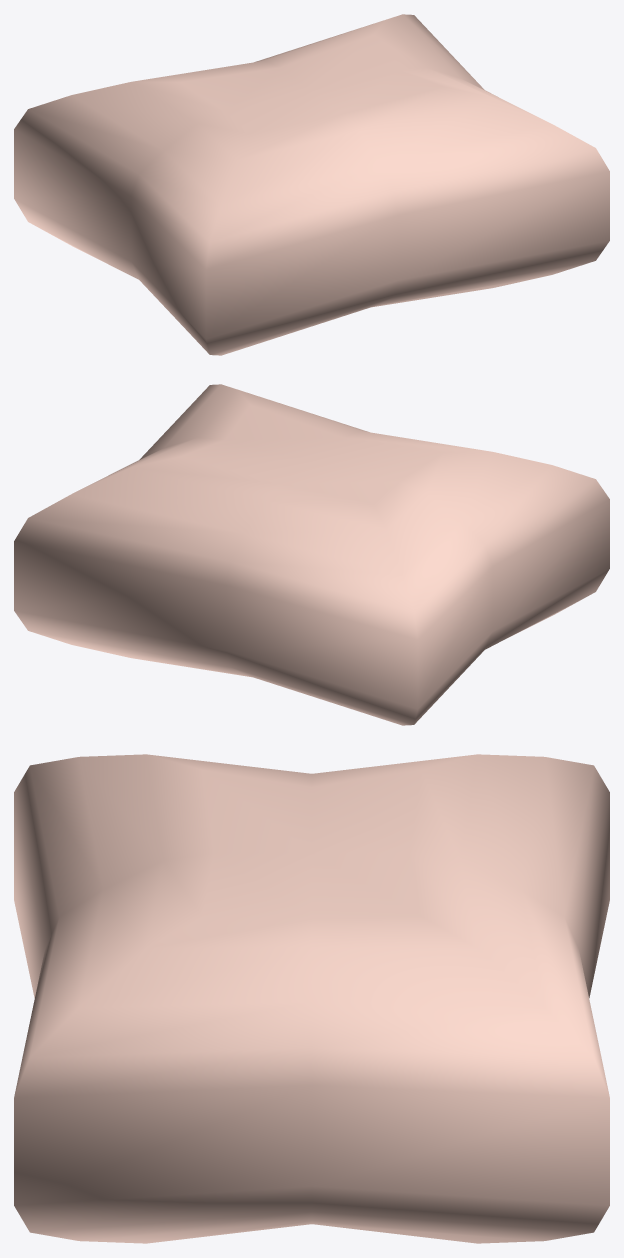
Rendered from bed_pillow_2.glb.
3 views of the same model, one above another, from view 1: azimuth 30°, elevation 25°; view 2: azimuth 150°, elevation 25°; view 3: azimuth 270°, elevation 25° (orthographic). The views are drawn at different scales.
Parts seen in each view (by area): view 1: Pillow (Sofa); view 2: Pillow (Sofa); view 3: Pillow (Sofa).
Boxes of the visible parts, <box> form: Pillow (Sofa): <box>14,14,609,355</box>; Pillow (Sofa): <box>14,384,609,725</box>; Pillow (Sofa): <box>14,754,609,1243</box>.
Bounding box in the file's own units: 0.4999 × 0.2375 × 0.4119.
Materials: 1 (1 with a texture image).
